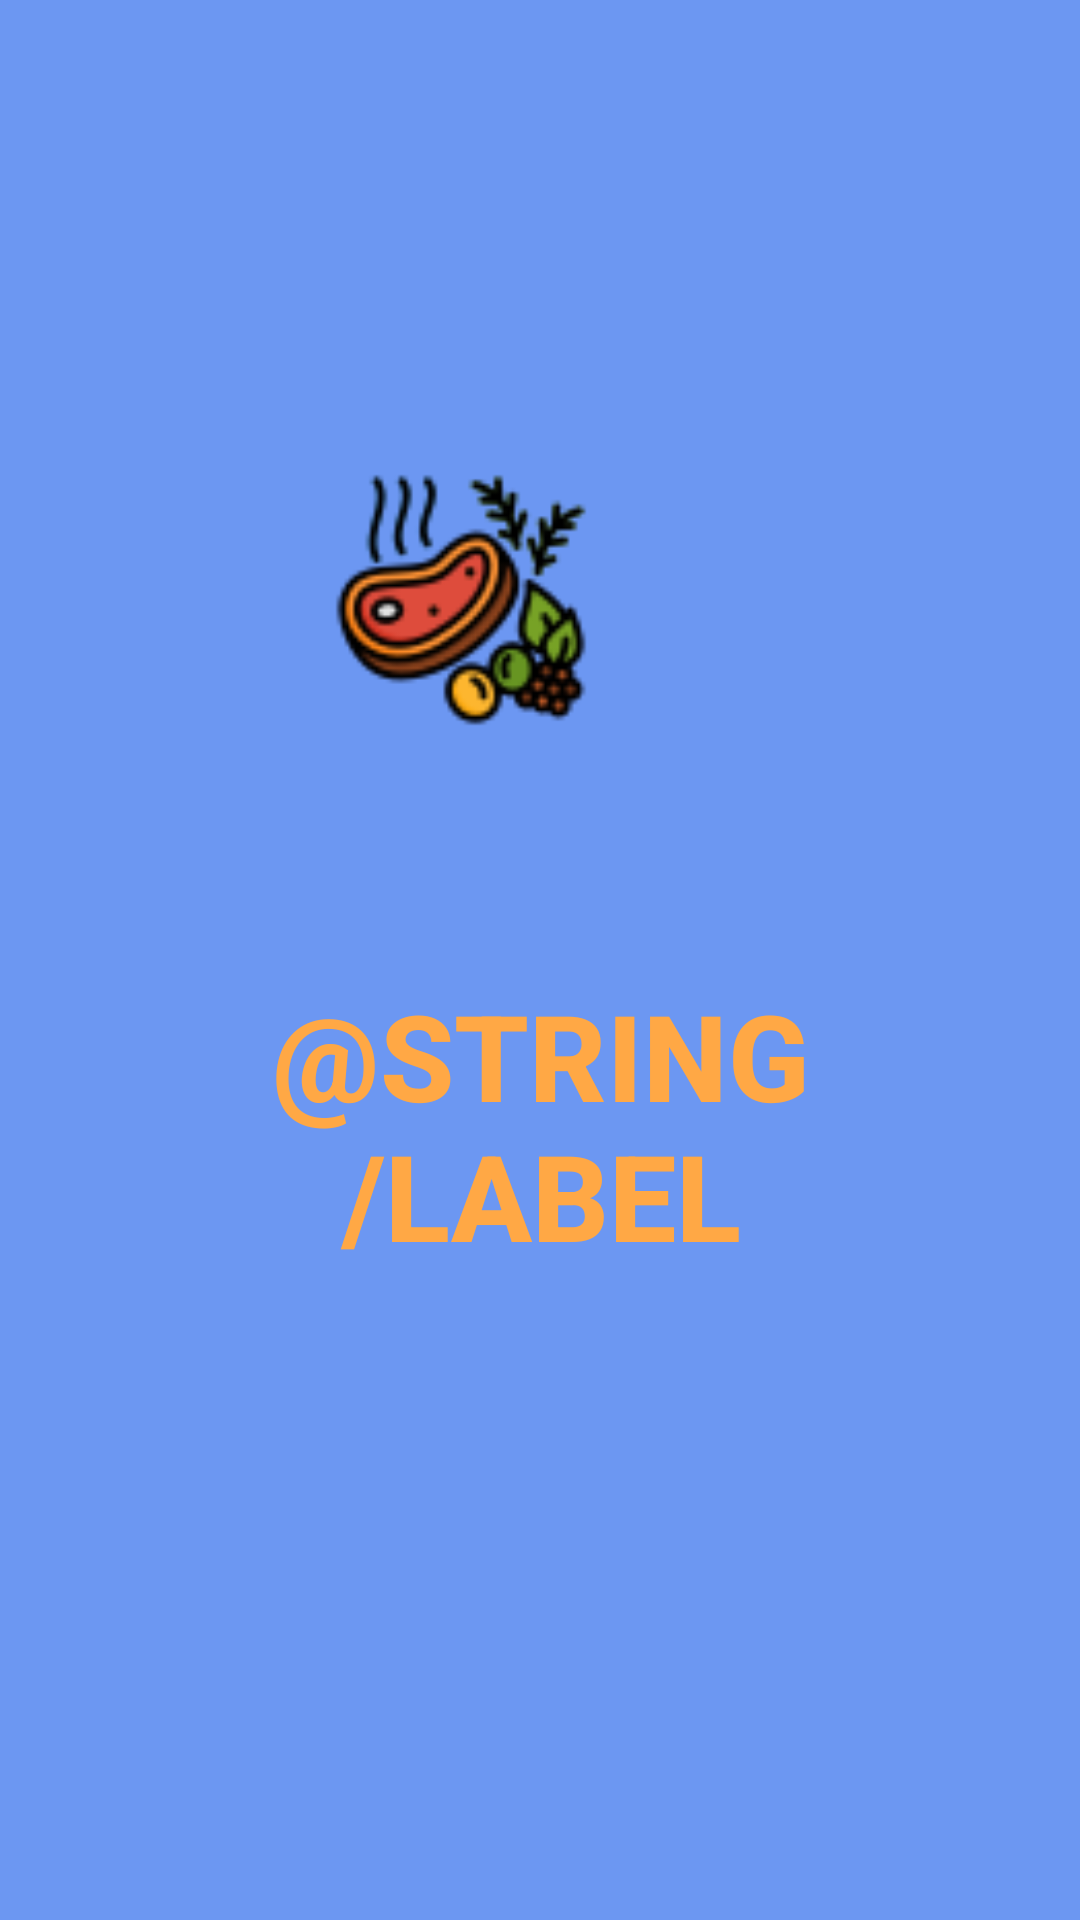

Where to tap for icons on this 1080 x 1920 app screen, as (x=x, y=y):
protein: (x=461, y=600)
